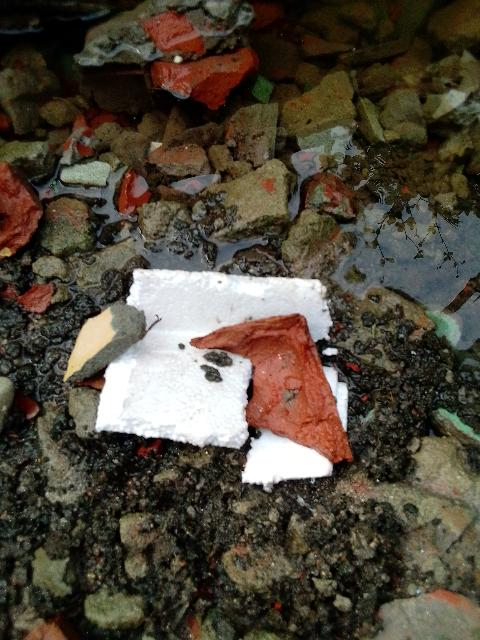cocksheet: (105, 284, 342, 477)
